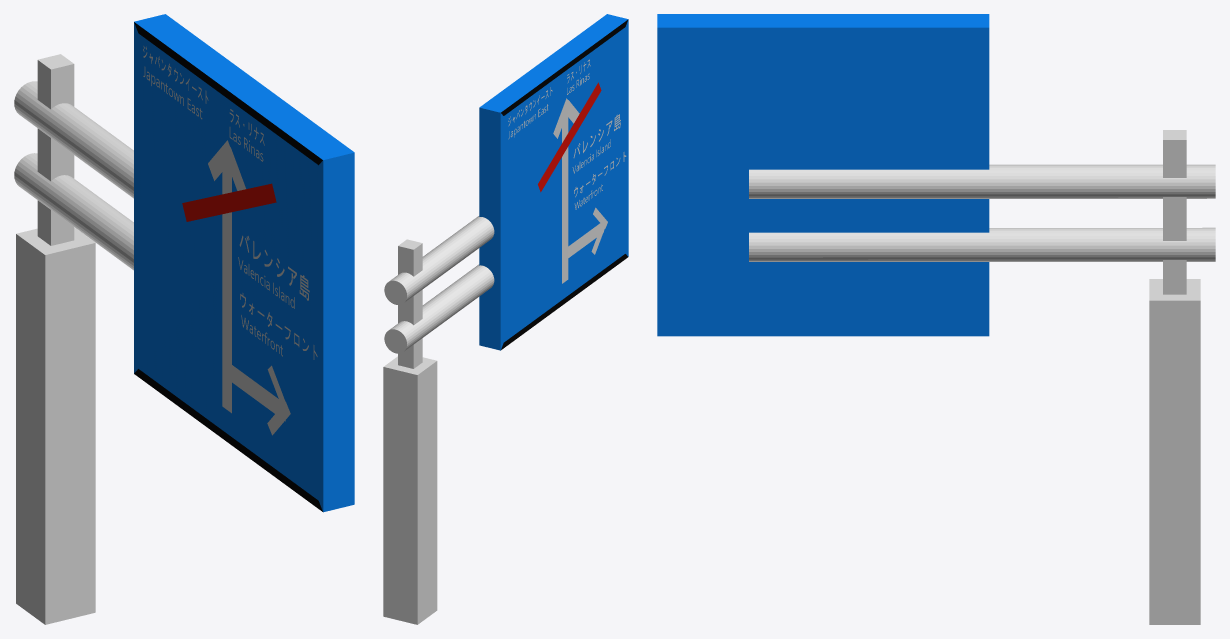
Rendered from japantown_sign_4.fbx.
The picture shows the model from 3 angles, left to right: view 1: azimuth 30°, elevation 25°; view 2: azimuth 150°, elevation 25°; view 3: azimuth 270°, elevation 25°; orthographic projection. The views are drawn at different scales.
Parts seen in each view (by area): view 1: Cube.003, Cube, Cylinder, Cylinder.001, Plane, Plane.006, Plane.001, Plane.005; view 2: Cube.003, Cube, Cylinder.001, Cylinder, Plane, Plane.006, Plane.001; view 3: Cube.003, Cube, Cylinder, Cylinder.001.
Boxes of the visible parts, x1,y1,x2,y2 form: Cube.003: [134, 14, 354, 512]; Cube: [16, 54, 95, 624]; Cylinder: [14, 81, 133, 198]; Cylinder.001: [14, 153, 133, 270]; Plane: [222, 165, 231, 413]; Plane.006: [182, 183, 276, 221]; Plane.001: [232, 365, 285, 421]; Plane.005: [208, 140, 233, 180]; Cube.003: [479, 14, 628, 350]; Cube: [383, 239, 437, 624]; Cylinder.001: [384, 264, 494, 353]; Cylinder: [384, 216, 494, 304]; Plane: [562, 115, 568, 283]; Plane.006: [538, 82, 601, 192]; Plane.001: [568, 223, 603, 257]; Cube.003: [657, 14, 989, 336]; Cube: [1149, 130, 1200, 624]; Cylinder: [749, 164, 1215, 198]; Cylinder.001: [749, 227, 1215, 261].
Bounding box in the file's own units: 6.7 × 76.11 × 65.5.
